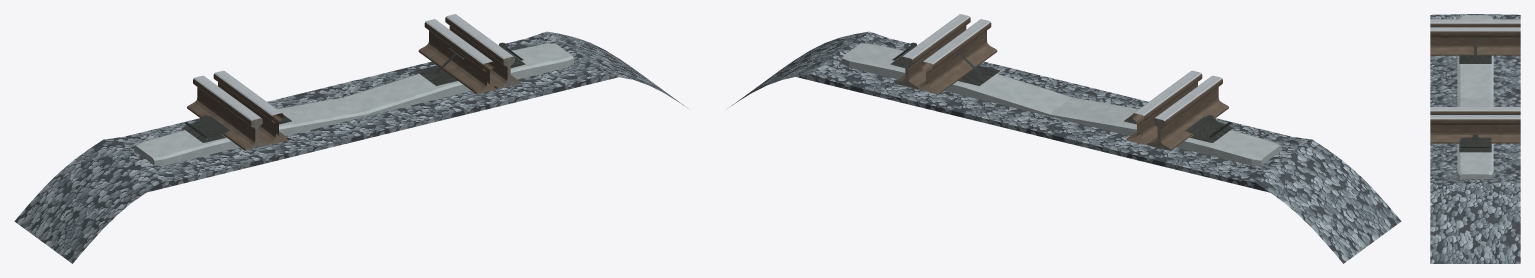
Rendered from outer_guard_mid.obj.
The picture shows the model from 3 angles, left to right: view 1: azimuth 30°, elevation 25°; view 2: azimuth 150°, elevation 25°; view 3: azimuth 270°, elevation 25°; orthographic projection. The views are drawn at different scales.
Parts seen in each view (by area): view 1: ballast, sleeper, outer_guard_right, rail_left, outer_guard_left, rail_right, fastener_left, outer_fastener_right; view 2: ballast, sleeper, outer_guard_right, rail_left, outer_guard_left, rail_right, fastener_left, outer_fastener_right; view 3: ballast, sleeper, outer_guard_left, rail_right, rail_left, outer_guard_right, fastener_right, outer_fastener_left, outer_fastener_right.
Boxes of the visible parts, x1=… form: ballast: x1=14, y1=31, x2=688, y2=263; sleeper: x1=134, y1=43, x2=573, y2=165; outer_guard_right: x1=418, y1=19, x2=498, y2=94; rail_left: x1=187, y1=75, x2=266, y2=150; outer_guard_left: x1=213, y1=70, x2=289, y2=144; rail_right: x1=445, y1=14, x2=519, y2=88; fastener_left: x1=184, y1=115, x2=230, y2=142; outer_fastener_right: x1=416, y1=47, x2=525, y2=85; ballast: x1=727, y1=31, x2=1401, y2=263; sleeper: x1=842, y1=43, x2=1281, y2=165; outer_guard_right: x1=917, y1=19, x2=997, y2=94; rail_left: x1=1149, y1=75, x2=1228, y2=150; outer_guard_left: x1=1126, y1=70, x2=1202, y2=144; rail_right: x1=896, y1=14, x2=970, y2=88; fastener_left: x1=1185, y1=115, x2=1231, y2=142; outer_fastener_right: x1=890, y1=47, x2=999, y2=85; ballast: x1=1430, y1=14, x2=1520, y2=263; sleeper: x1=1457, y1=15, x2=1493, y2=179; outer_guard_left: x1=1430, y1=27, x2=1520, y2=55; rail_right: x1=1430, y1=115, x2=1520, y2=143; rail_left: x1=1430, y1=19, x2=1520, y2=27; outer_guard_right: x1=1430, y1=107, x2=1520, y2=114; fastener_right: x1=1459, y1=134, x2=1491, y2=149; outer_fastener_left: x1=1459, y1=38, x2=1491, y2=63; outer_fastener_right: x1=1459, y1=144, x2=1491, y2=152.
Size of the model in its own units: 3.7 by 0.5683 by 0.6.
Materials: 1 (1 with a texture image).
